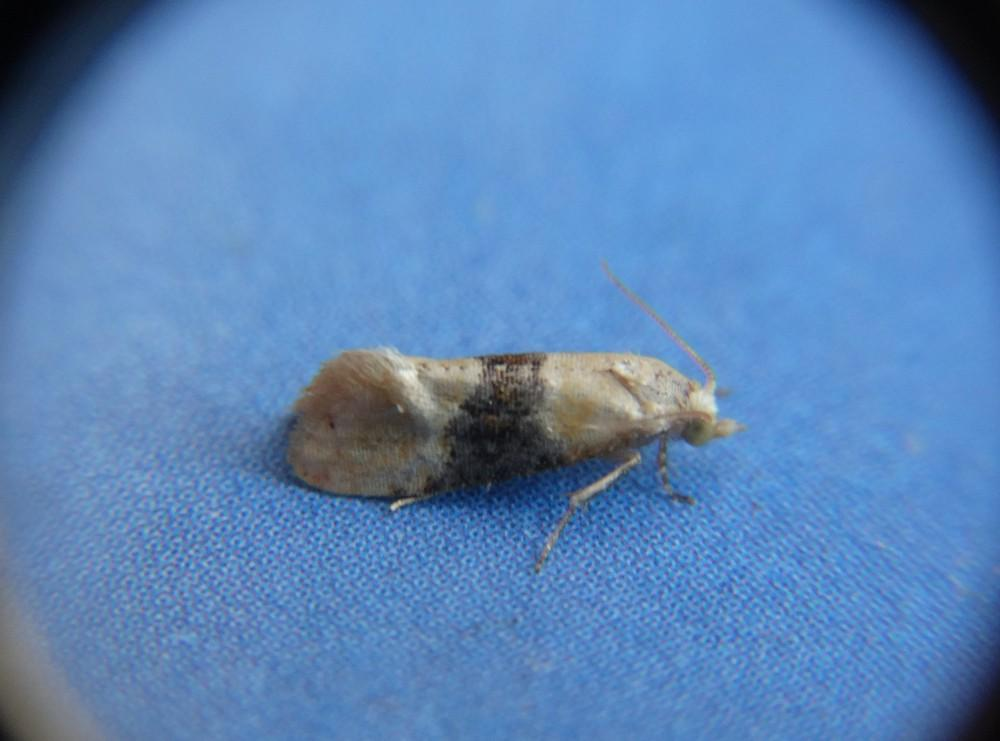Eupoecilia Ambiguella: (281, 257, 748, 576)
